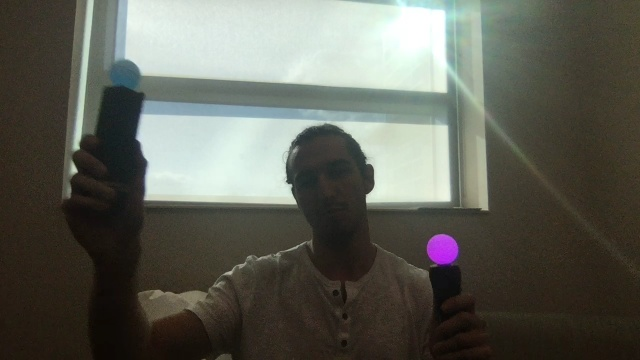wand: (108, 61, 143, 92), (429, 234, 458, 264)
